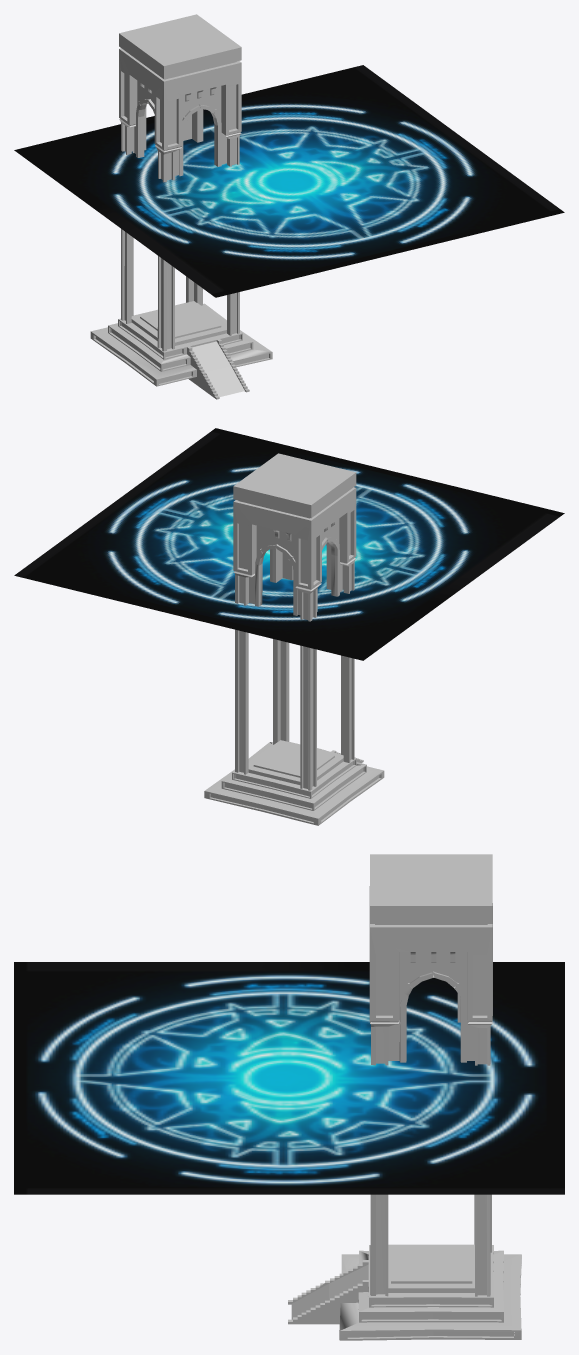
The model's file is ZhuC_Fangzi.fbx.
The picture shows the model from 3 angles, top to bottom: view 1: azimuth 30°, elevation 25°; view 2: azimuth 150°, elevation 25°; view 3: azimuth 270°, elevation 25°; orthographic projection. The views are drawn at different scales.
Visible parts, largest first — view 1: FX_Fazheng, Zhuc_Fangz13; view 2: FX_Fazheng, Zhuc_Fangz13; view 3: FX_Fazheng, Zhuc_Fangz13.
Boxes of the visible parts, bbox=[...] form: FX_Fazheng: bbox=[14, 65, 564, 297]; Zhuc_Fangz13: bbox=[90, 14, 272, 399]; FX_Fazheng: bbox=[14, 428, 564, 660]; Zhuc_Fangz13: bbox=[204, 453, 384, 825]; FX_Fazheng: bbox=[14, 962, 564, 1194]; Zhuc_Fangz13: bbox=[288, 854, 521, 1340].
Bounding box in the file's own units: 50 × 43.36 × 50.
